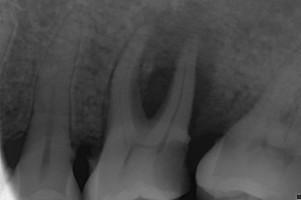Dental Caries: (138, 0, 226, 136)
